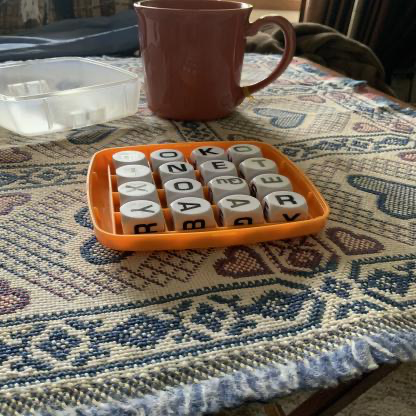a: (173, 198, 211, 215), (222, 196, 261, 212)
e: (255, 175, 291, 189), (203, 161, 236, 174), (114, 152, 146, 163)
i: (117, 166, 151, 179)
k: (195, 148, 226, 158)
n: (161, 163, 194, 175)
o: (167, 179, 203, 194), (152, 151, 184, 162), (231, 146, 261, 156)
qu: (212, 177, 247, 191)
r: (269, 192, 307, 209)
t: (244, 159, 277, 171)
x: (119, 182, 156, 197)
y: (121, 201, 161, 219)
